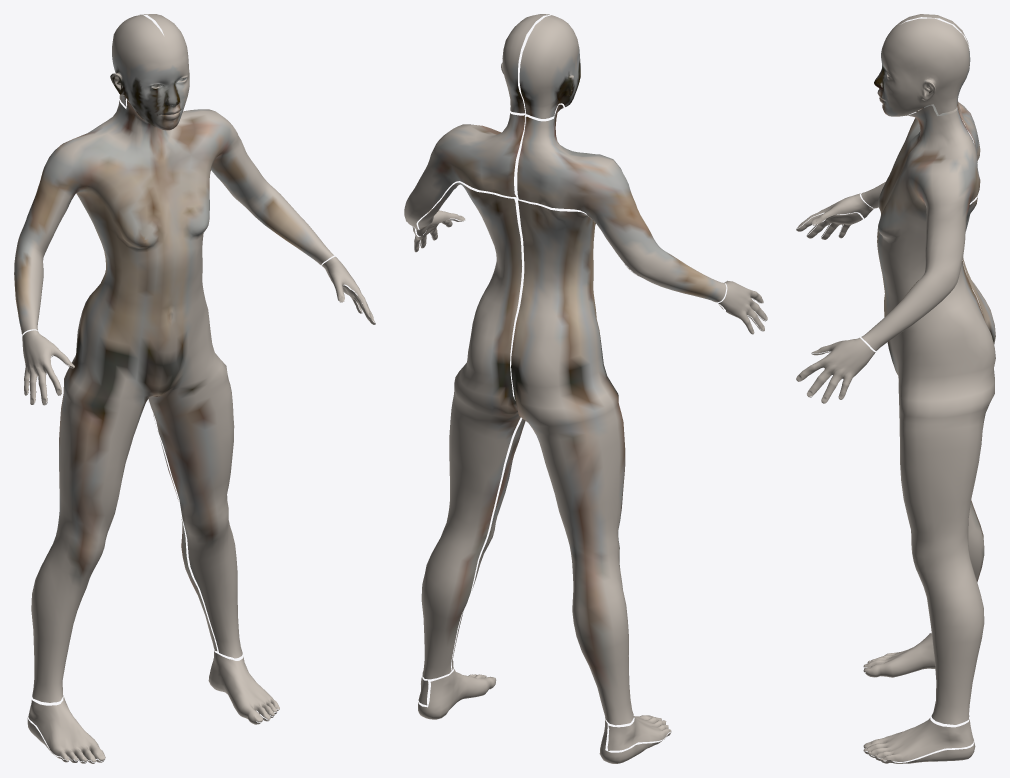
The model's file is body_mesh.glb.
The picture shows the model from 3 angles, left to right: view 1: azimuth 30°, elevation 25°; view 2: azimuth 150°, elevation 25°; view 3: azimuth 270°, elevation 25°; orthographic projection.
Parts seen in each view (by area): view 1: base_male.obj; view 2: base_male.obj; view 3: base_male.obj.
Part boxes in pixels (bbox=[...]): base_male.obj: bbox=[14, 14, 375, 763]; base_male.obj: bbox=[404, 14, 767, 763]; base_male.obj: bbox=[796, 14, 995, 763].
Bounding box in the file's own units: 0.8869 × 1.75 × 0.4543.
